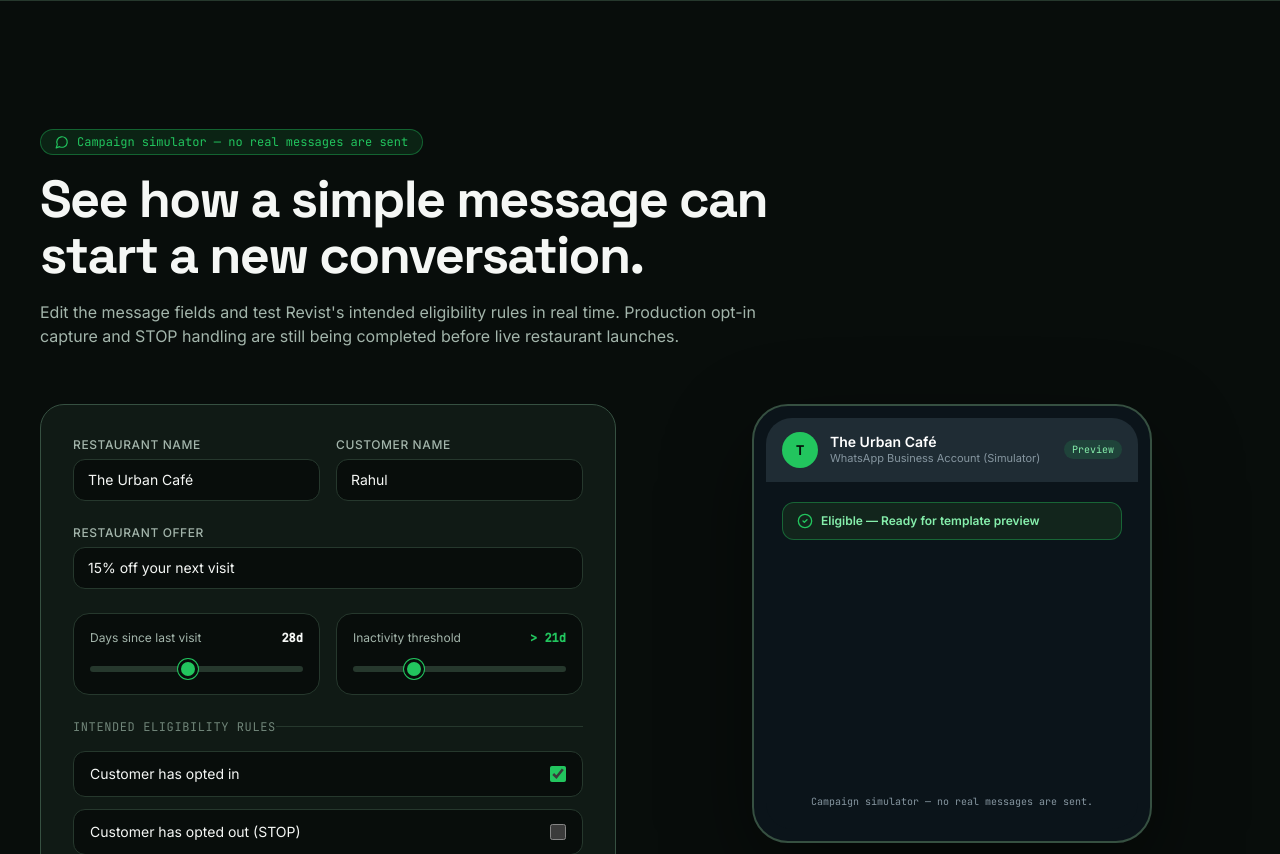
Revist 2.0 Interactive Components › blocks WhatsApp simulator preview when customer opts out or was reminded recently
Check: the text "Eligible — Ready for template preview" is shown, box [797, 513, 1040, 529]
Click the checkbox labelled "Customer has opted out (STOP)" at (558,832), box [550, 824, 566, 840]
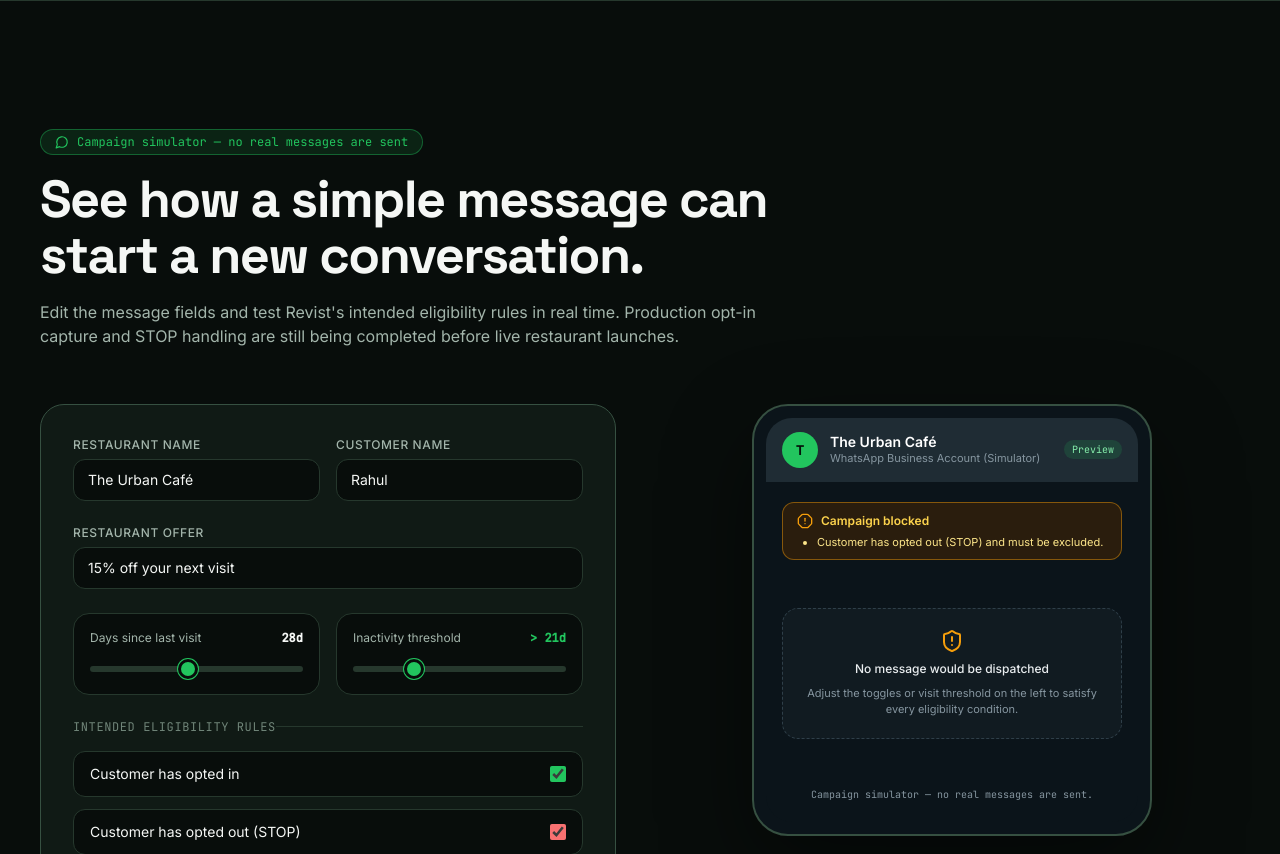
Check: the text "Campaign blocked" is shown, box [797, 513, 929, 529]
Check: the text "No message would be dispatched" is shown, box [855, 661, 1049, 676]
